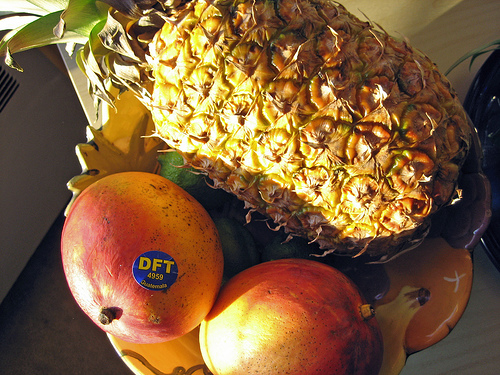pineapple: (0, 0, 485, 266)
